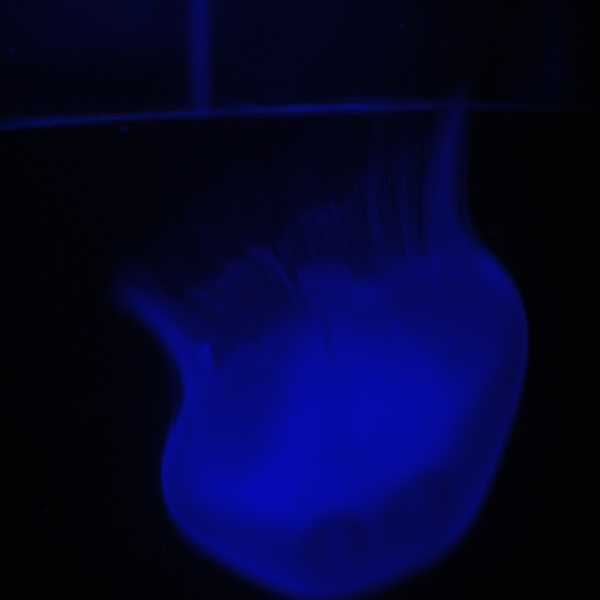Jellyfish: (145, 109, 532, 580)
